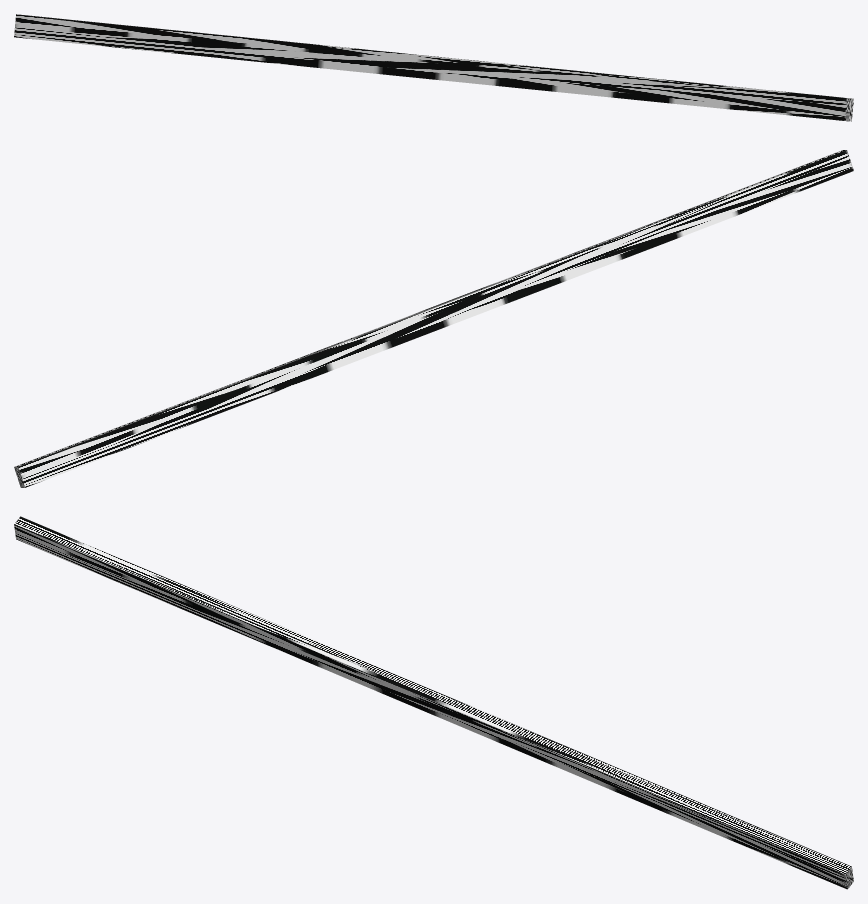
3 views of the same model, one above another, from view 1: azimuth 90°, elevation 25°; view 2: azimuth 150°, elevation 25°; view 3: azimuth 270°, elevation 25° (orthographic). The views are drawn at different scales.
Visible parts, largest first — view 1: Cube.033; view 2: Cube.033; view 3: Cube.033.
Part boxes in pixels (<box>): Cube.033: <box>14,14,853,121</box>; Cube.033: <box>14,150,853,487</box>; Cube.033: <box>14,516,853,889</box>.
Bounding box in the file's own units: 13.08 × 4.24 × 20.65.
Materials: 1 (1 with a texture image).
